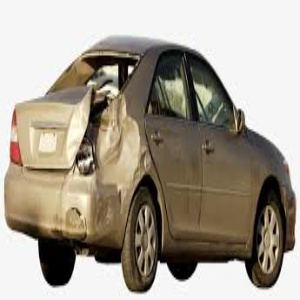bumper: (40, 180, 124, 248)
